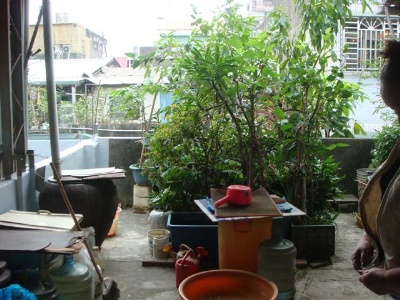bowl: (38, 181, 118, 247), (225, 184, 252, 208)
box: (166, 211, 218, 258)
bucket: (178, 268, 278, 300), (257, 239, 297, 300), (175, 257, 199, 289), (152, 234, 169, 259)
